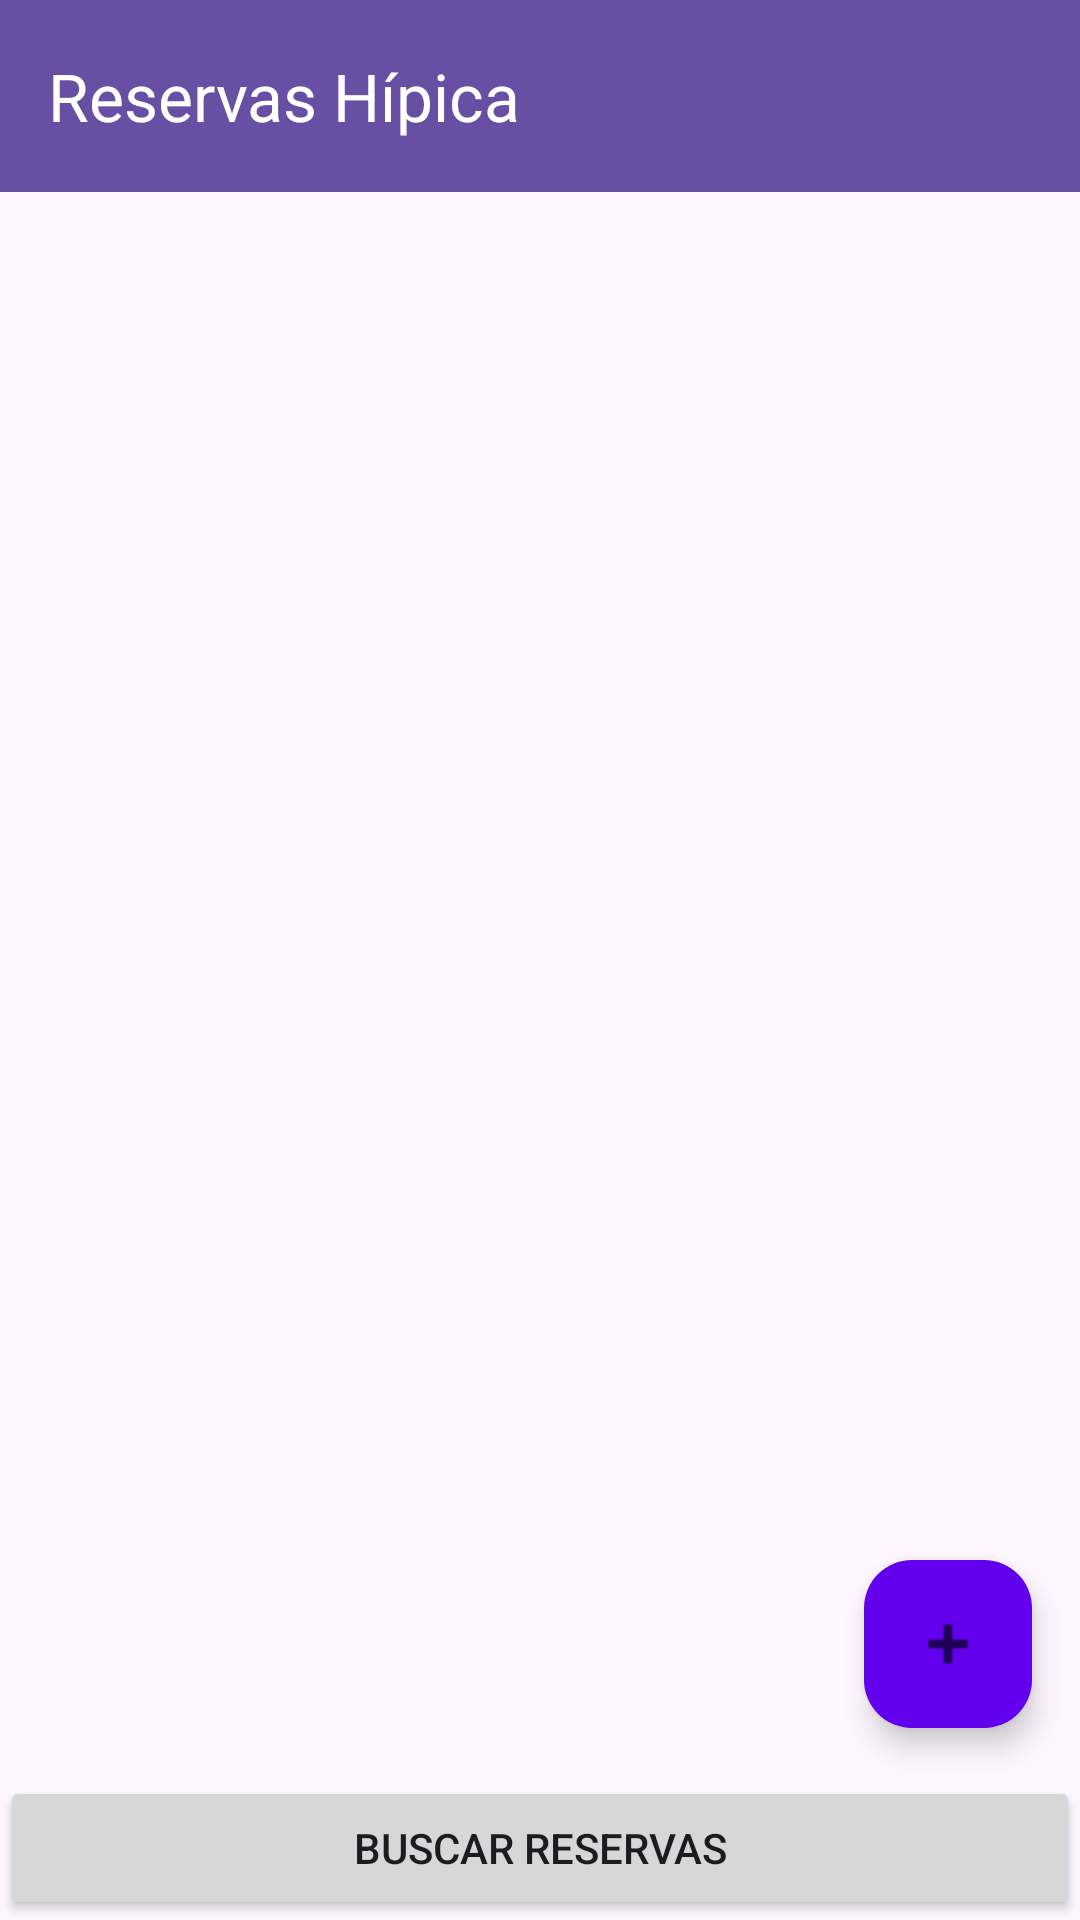

Screen size 1080px x 1920px. Icon name, then its center in pixels as (x,y):
add: (948,1644)
